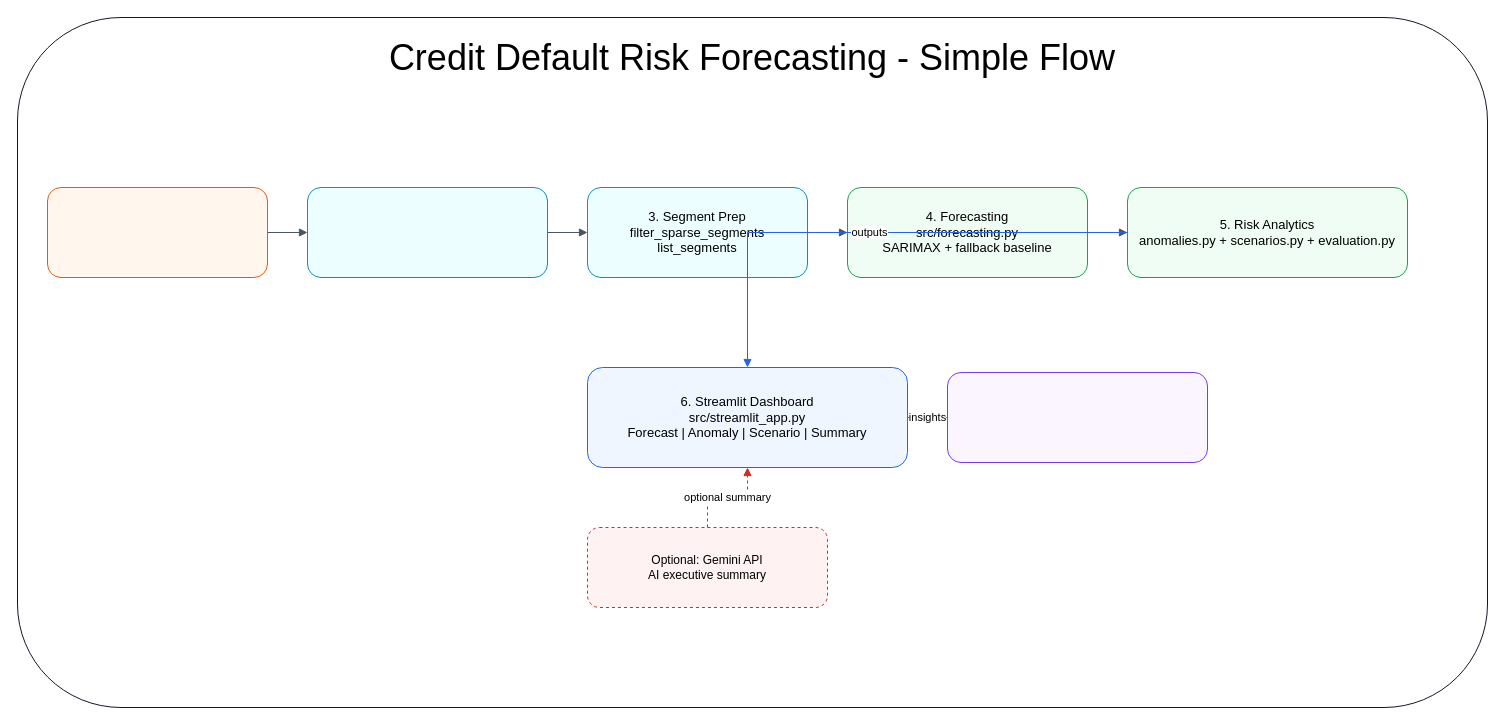
The diagram is 1505 pixels wide and 725 high, and some of its shapes have lost their labels. The box of each missing label's shape, as (x1, y1, x2, y2) in pixels:
1. Data Input Starter / Extended / Uploaded CSV: (46, 186, 268, 278)
2. Data Loading src/data_loader.py normalize, validate, preprocess: (306, 186, 548, 278)
7. Decision Support risk signals, monitoring, actions: (946, 372, 1208, 462)
